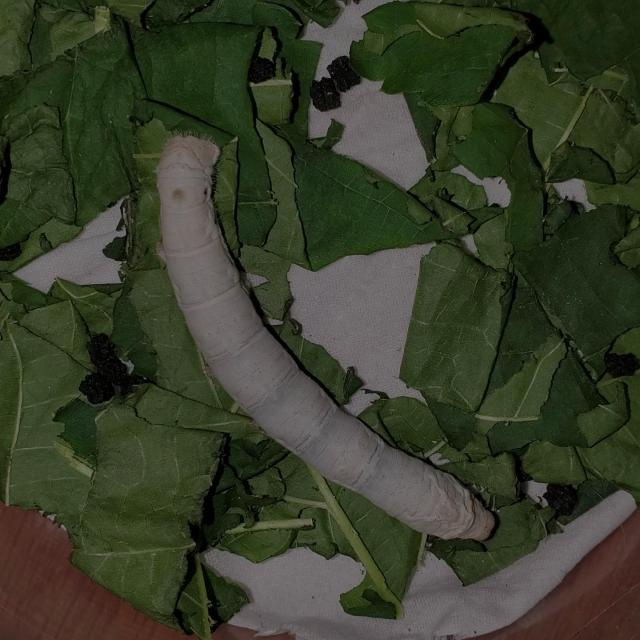Healthy: (146, 127, 504, 548)
